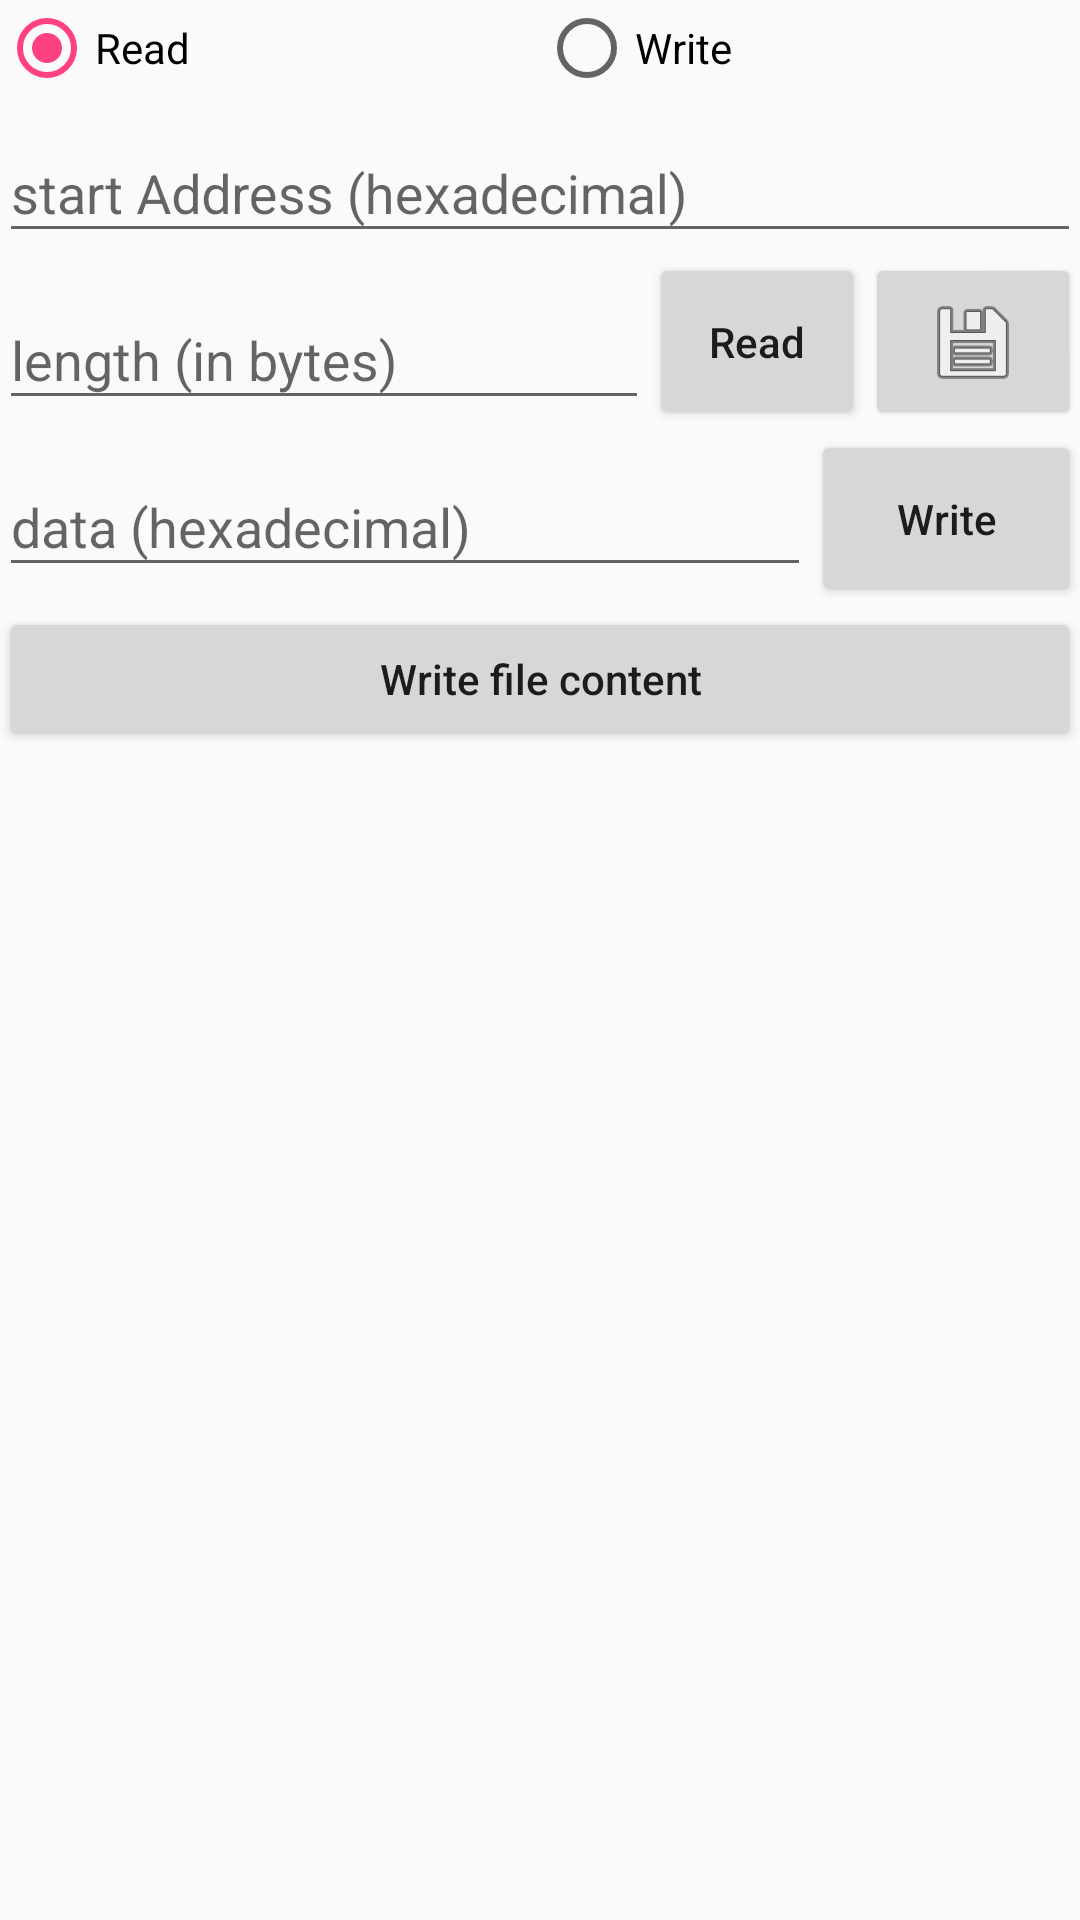

Icons on this 1080px x 1920px Android screen, each with the point to tap as (x=x, y=y):
save: (x=973, y=341)
